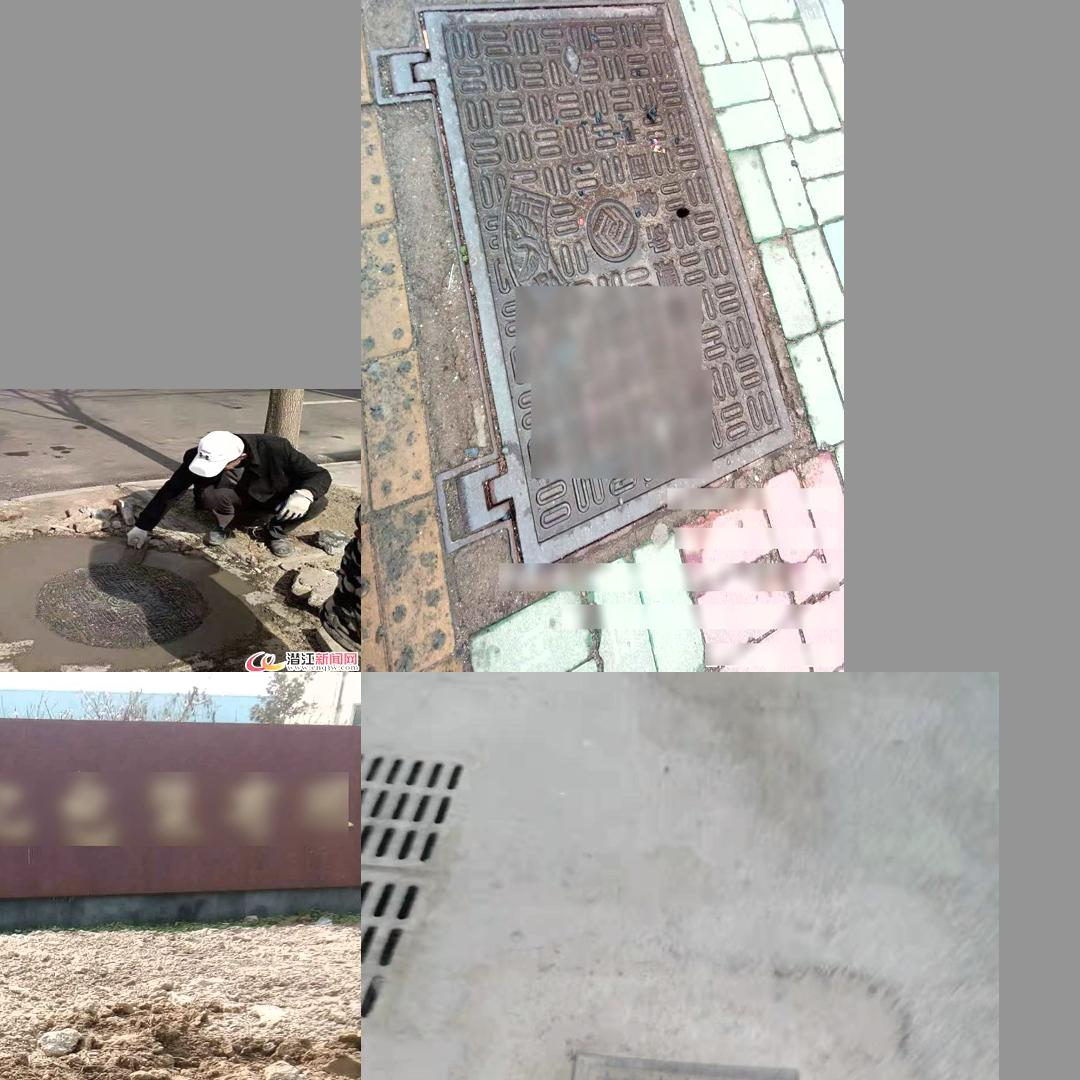good: (369, 0, 797, 583), (0, 532, 253, 666), (524, 1050, 840, 1080)
